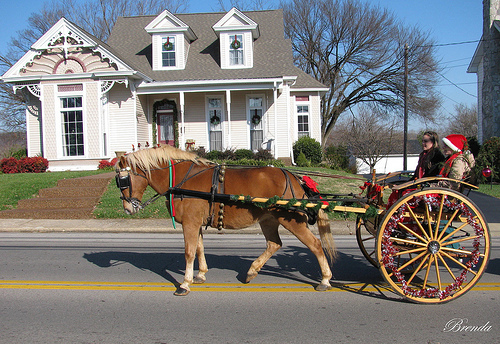horse: (112, 144, 334, 294)
